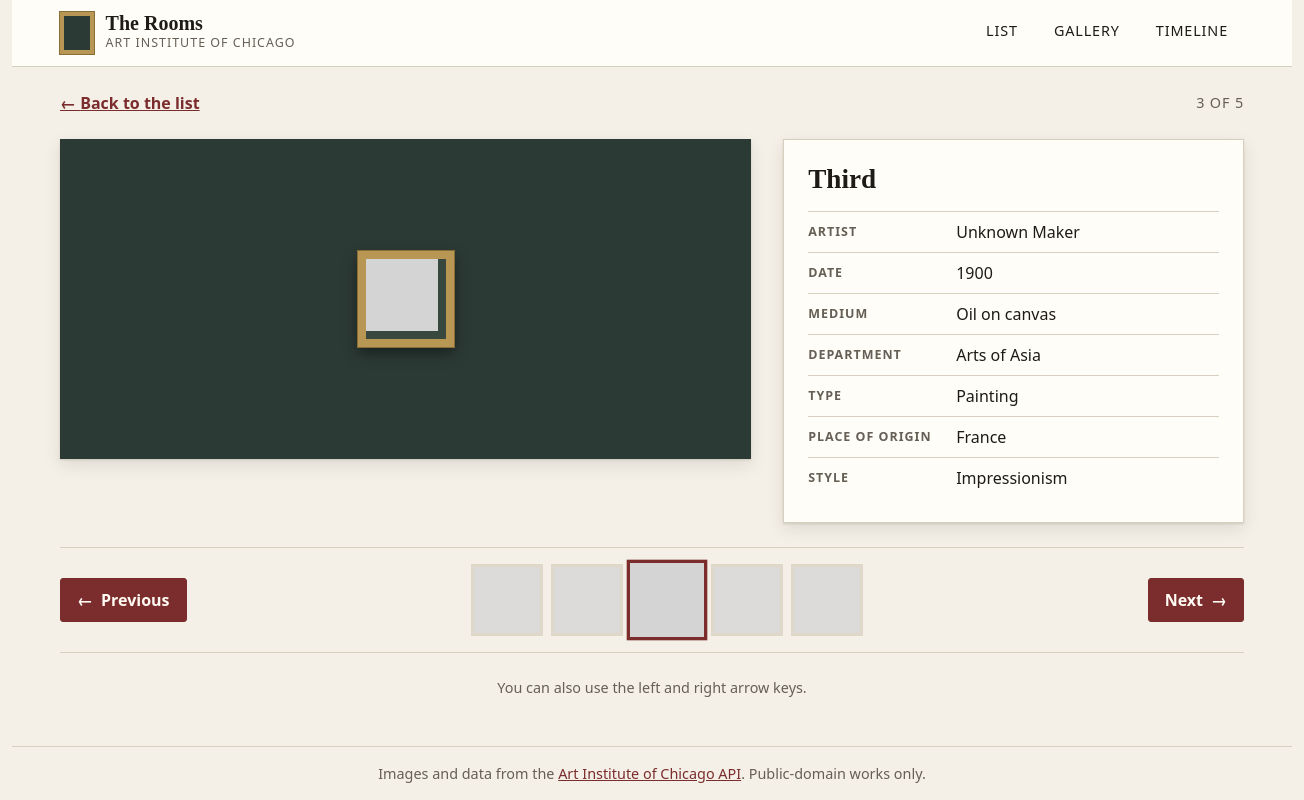
Test: moving between artworks › does not move after the visitor has left the page
Click the link "Next →": [1196, 600] box [1148, 578, 1244, 622]
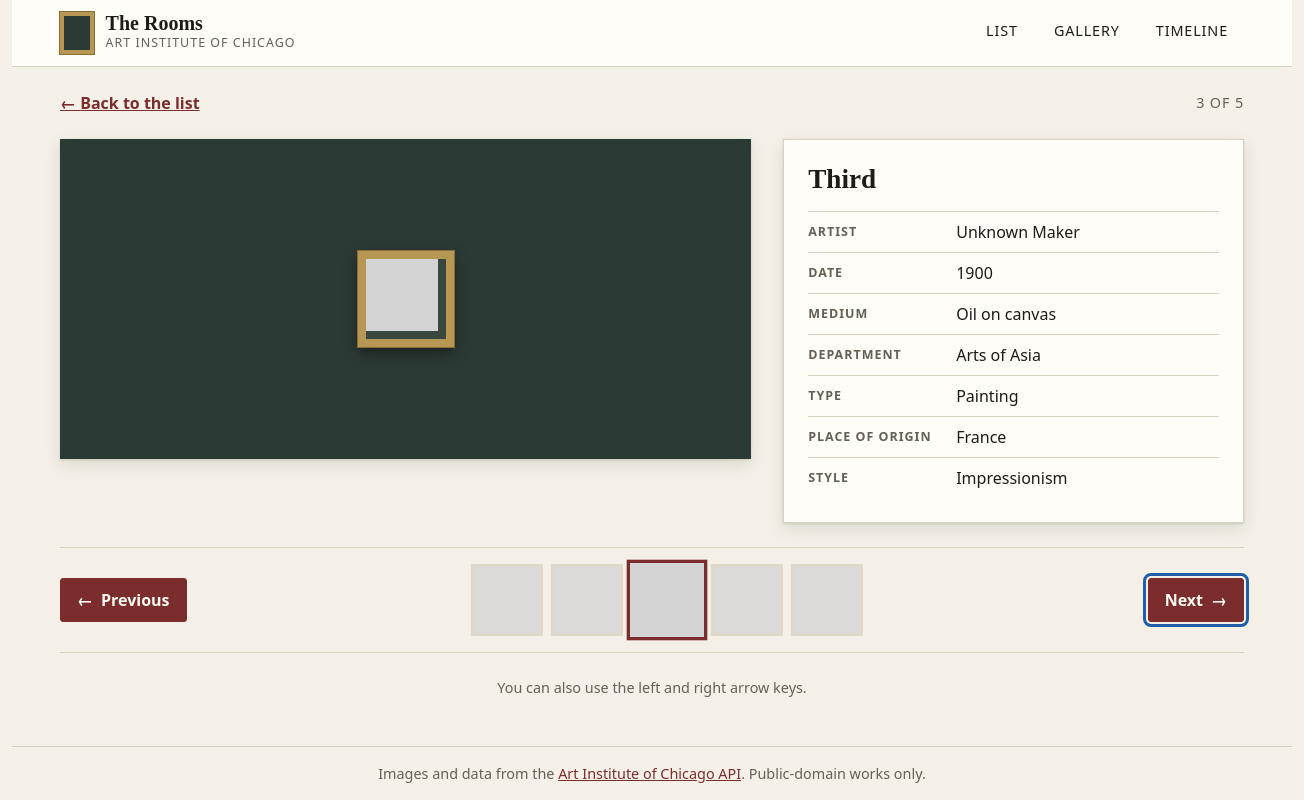
Click the link "Gallery": [1087, 31] box [1054, 22, 1120, 40]
(page scrolled)
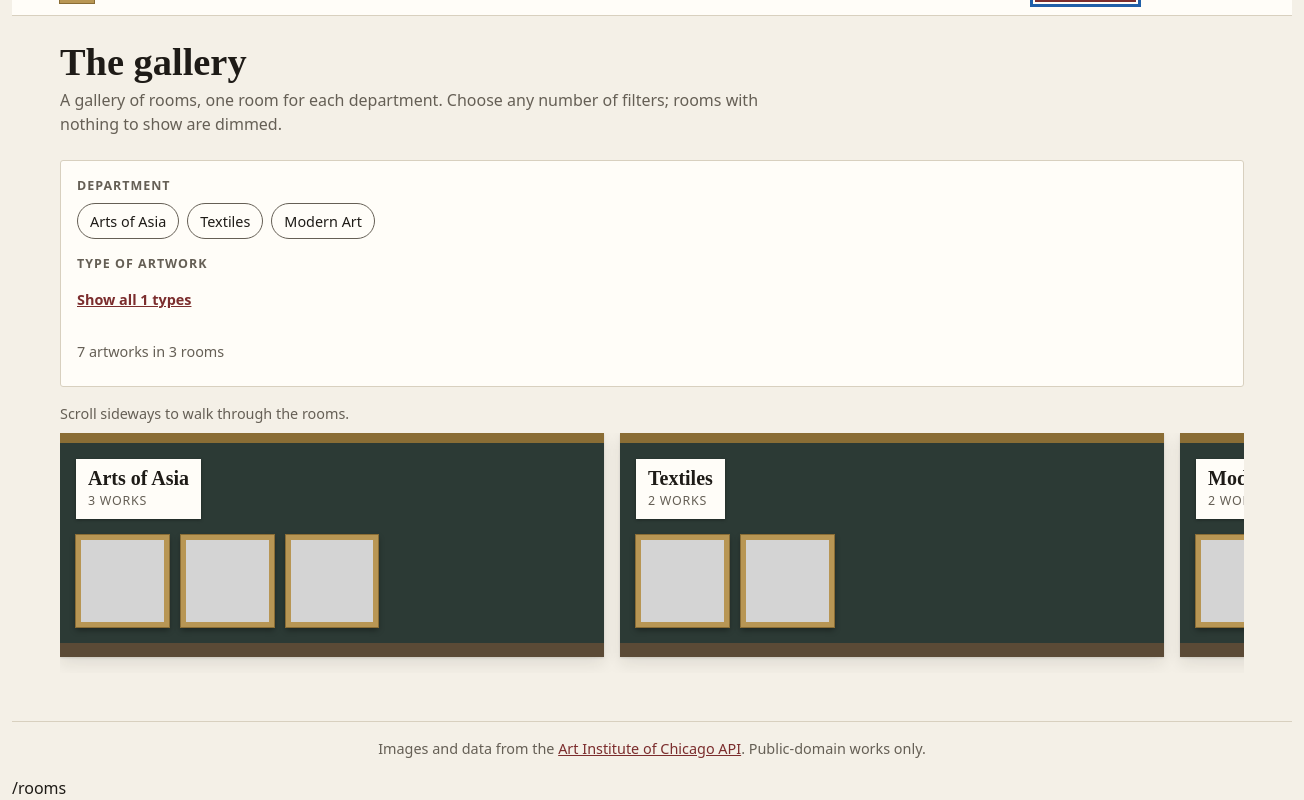
Expected: the heading "The gallery" is shown, [60, 41, 247, 83]
Expected: the text with test id "address" reads "/rooms", [12, 777, 66, 799]
